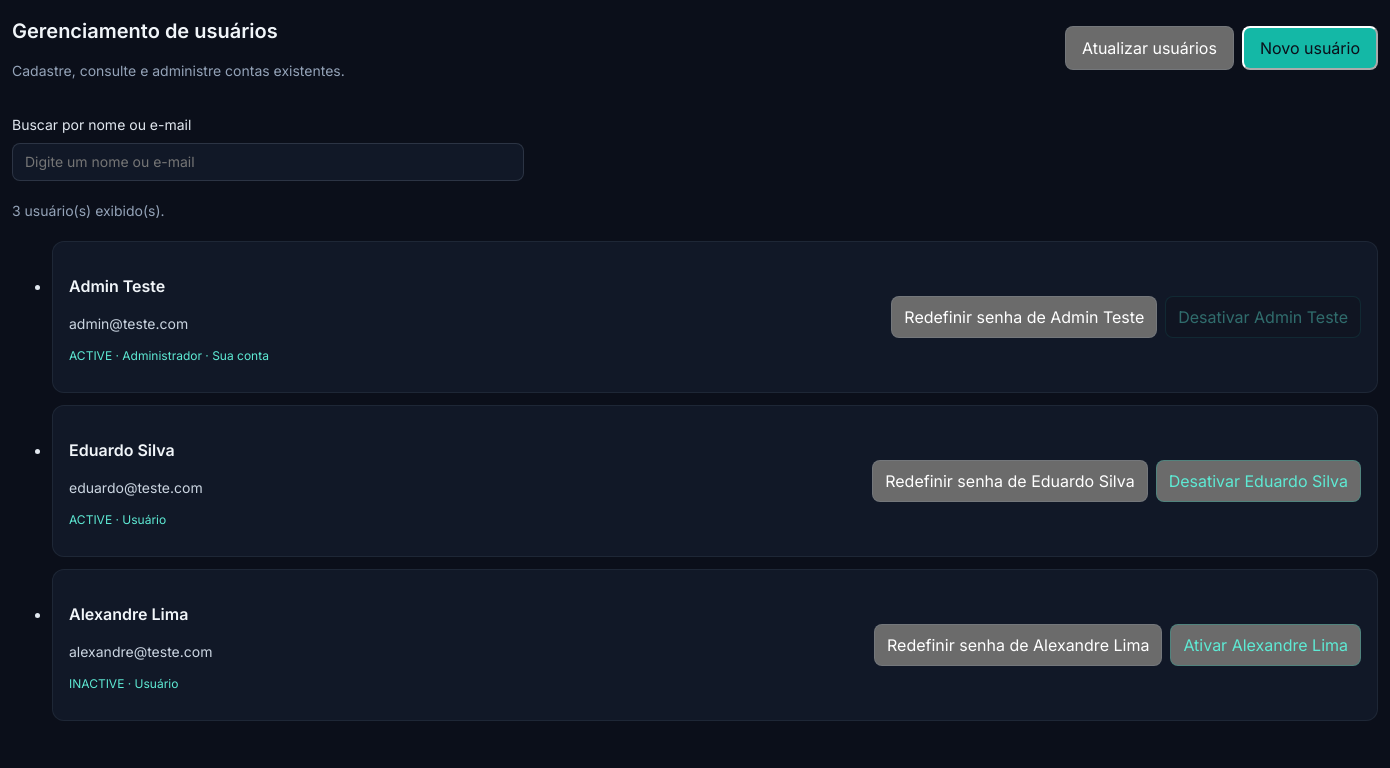
Test: FE-08: filtra usuários por nome ou e-mail
This screenshot has width=1390, height=768.
Expected: the text "Eduardo Silva" is shown, left=69, top=440, right=175, bottom=460
Type "alexandre@" into the search field labelled "Buscar por nome ou e-mail" at (268, 162), box left=12, top=143, right=524, bottom=181
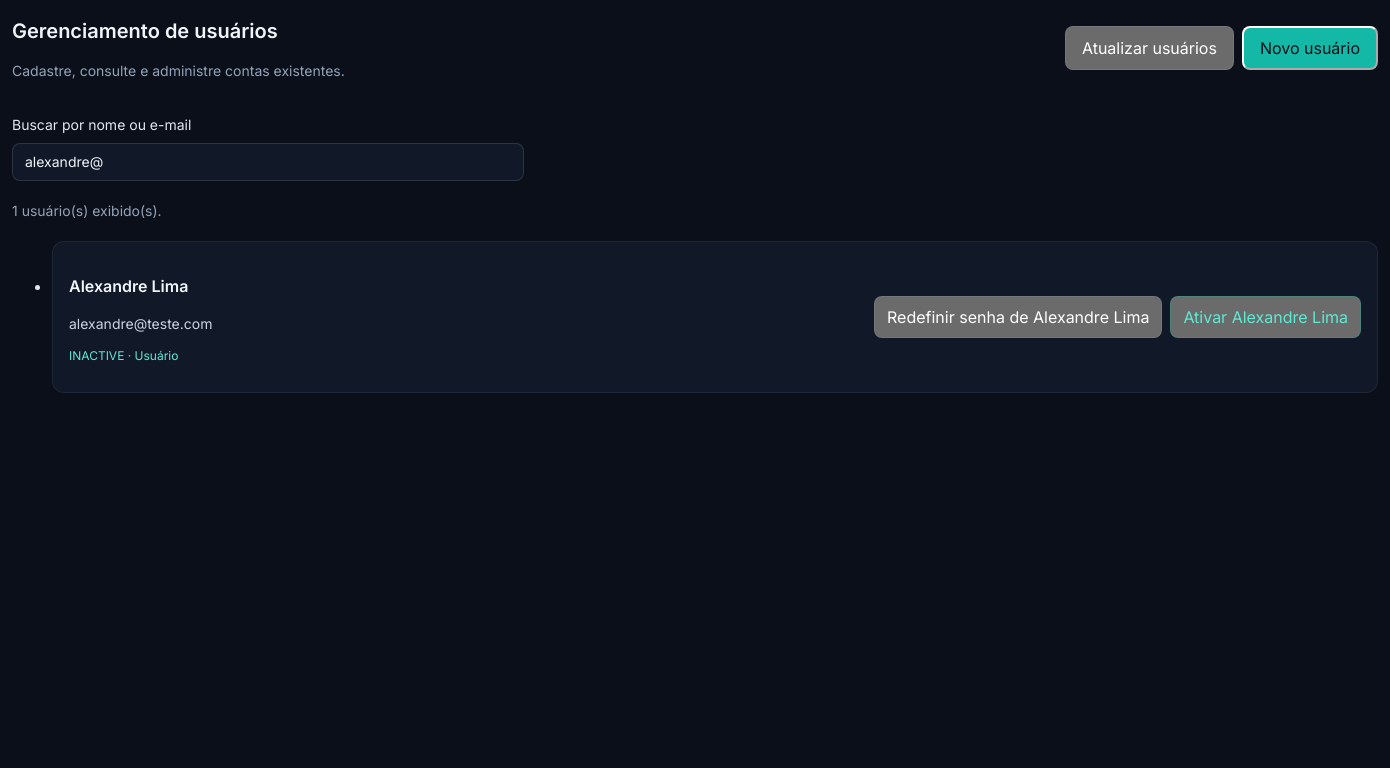
Expected: the text "Alexandre Lima" is shown, left=69, top=276, right=188, bottom=296
Now the text "Eduardo Silva" is gone
